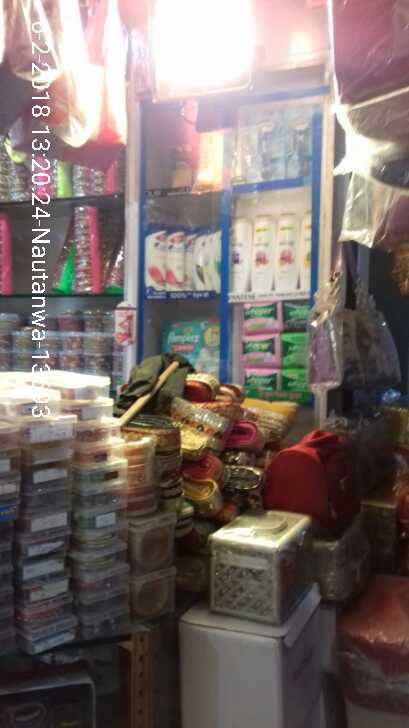venus: (252, 117, 286, 180), (286, 112, 316, 180)
